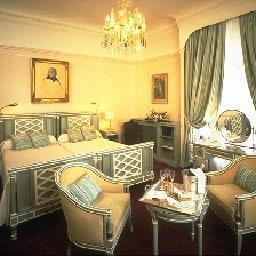Cama: (63, 110, 154, 182), (2, 111, 98, 167)
